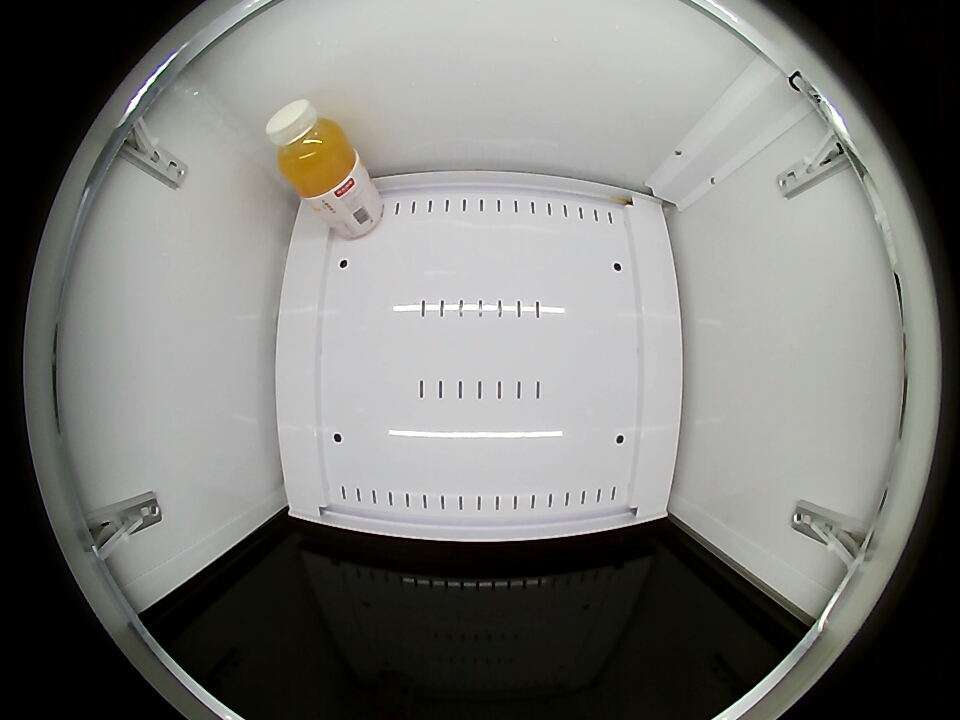weic: (266, 100, 358, 196)
